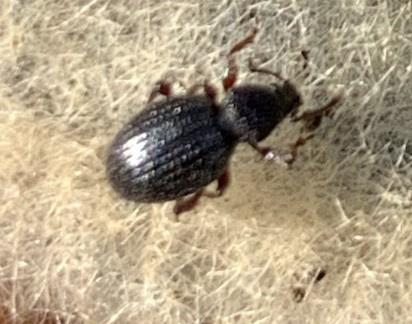weevils: (57, 2, 359, 239)
